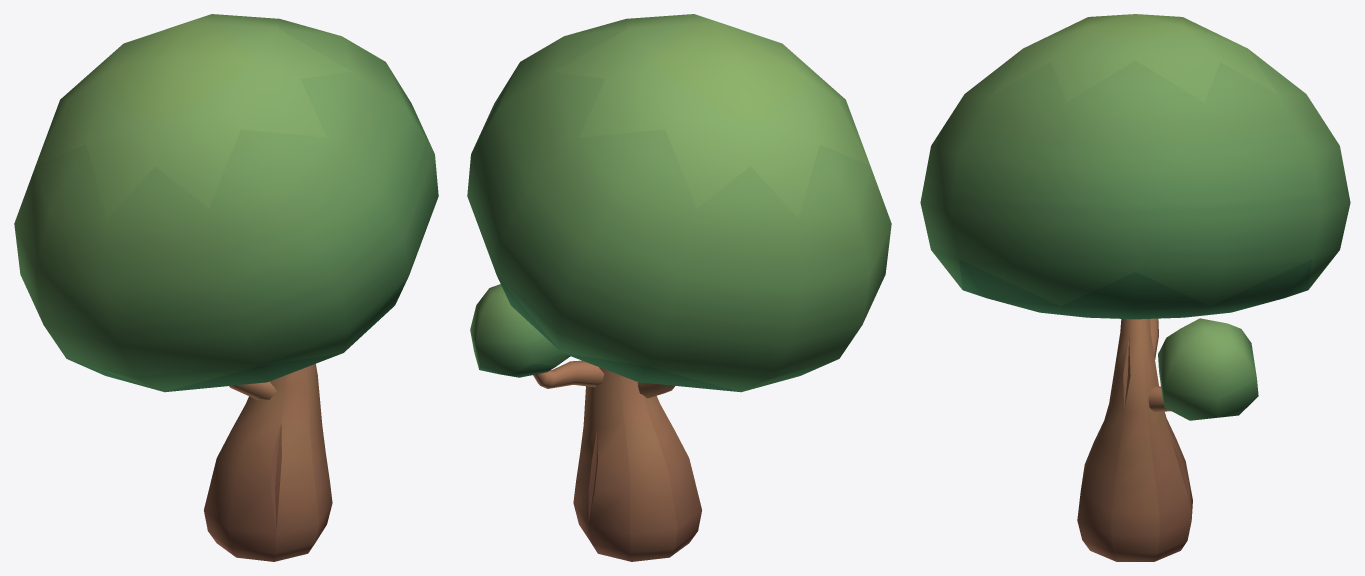
File: tree_1_a-Croev4X3.glb
The picture shows the model from 3 angles, left to right: view 1: azimuth 30°, elevation 25°; view 2: azimuth 150°, elevation 25°; view 3: azimuth 270°, elevation 25°; orthographic projection. The views are drawn at different scales.
Visible parts, largest first — view 1: Tree_1_A_Color1; view 2: Tree_1_A_Color1; view 3: Tree_1_A_Color1.
Part boxes in pixels (<box>): Tree_1_A_Color1: <box>14,14,438,561</box>; Tree_1_A_Color1: <box>467,14,891,561</box>; Tree_1_A_Color1: <box>920,14,1350,561</box>.
Size of the model in its own units: 4.14 by 5.41 by 4.23.
Materials: 1 (1 with a texture image).
